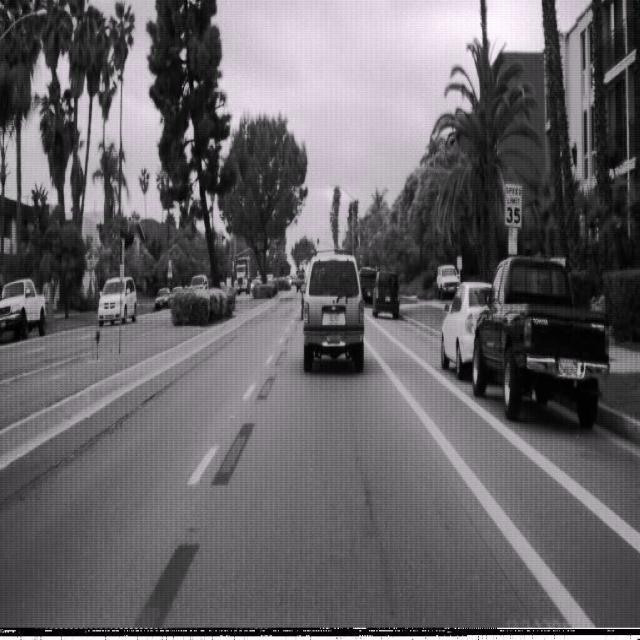speedLimit35: (503, 180, 522, 228)
